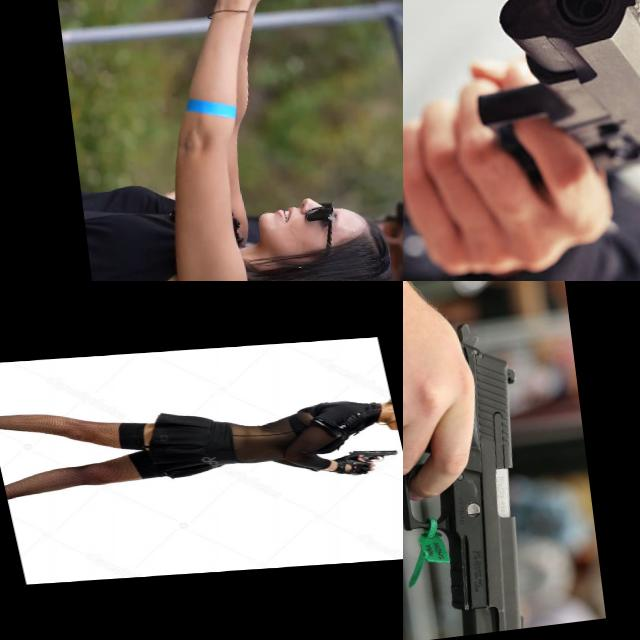handgun: (403, 0, 640, 244), (403, 309, 549, 640), (199, 0, 307, 39), (336, 446, 403, 472)
